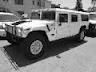car: (5, 8, 91, 59)
